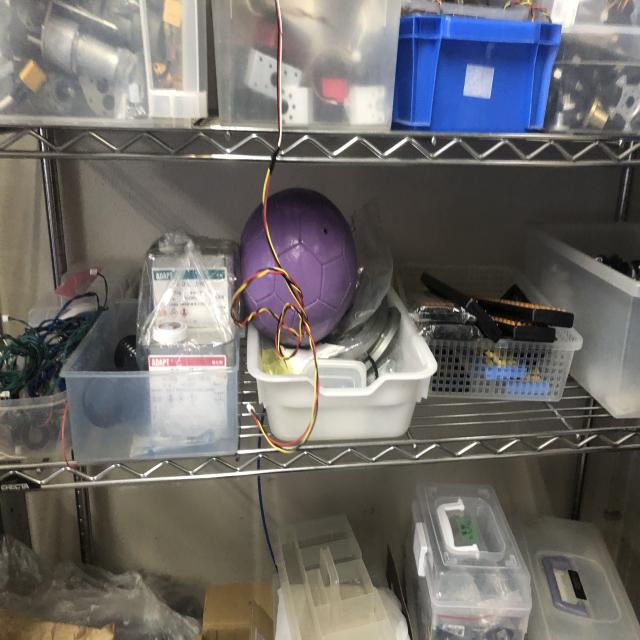purple_ball: (239, 188, 359, 340)
